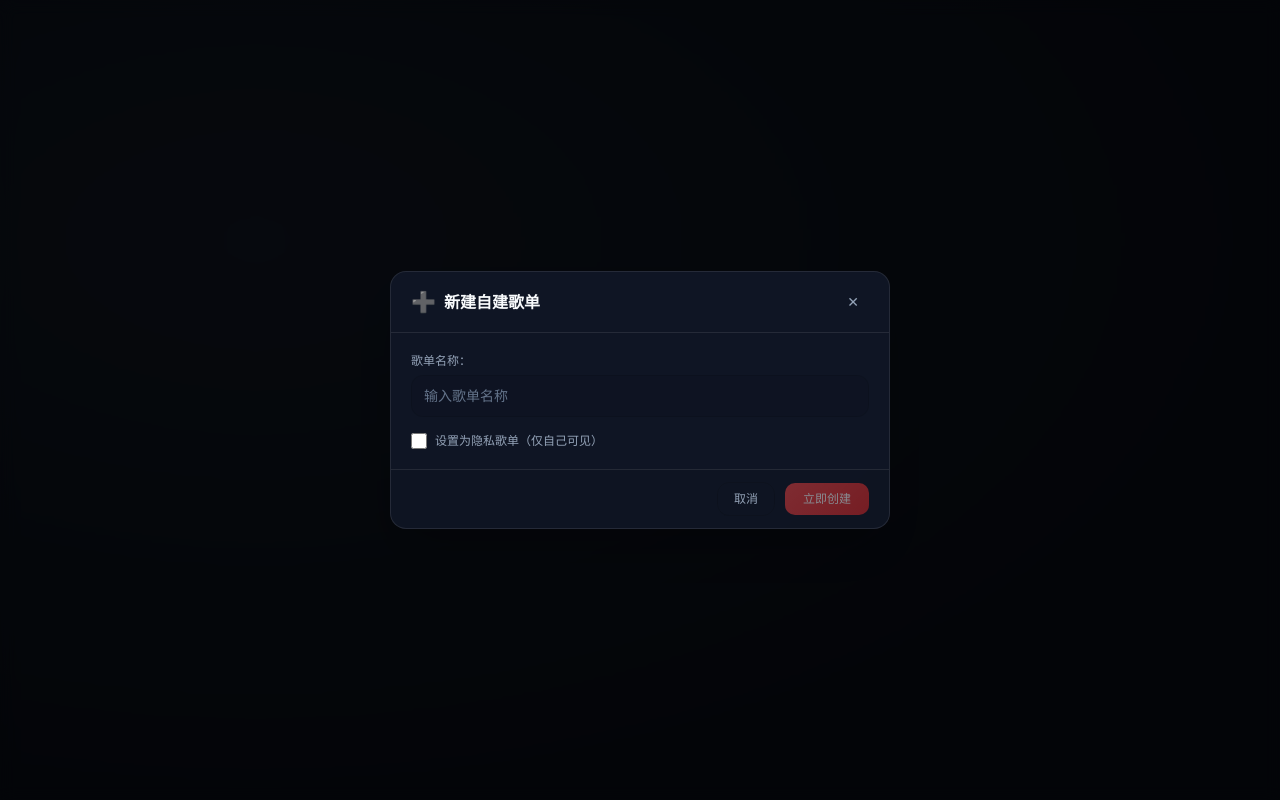
CreatePlaylistModal › enables create when name filled
The width and height of the screenshot is (1280, 800).
In the field with placeholder "输入歌单名称": coordinates (640, 396) [411,375,869,417], type "我的测试歌单"
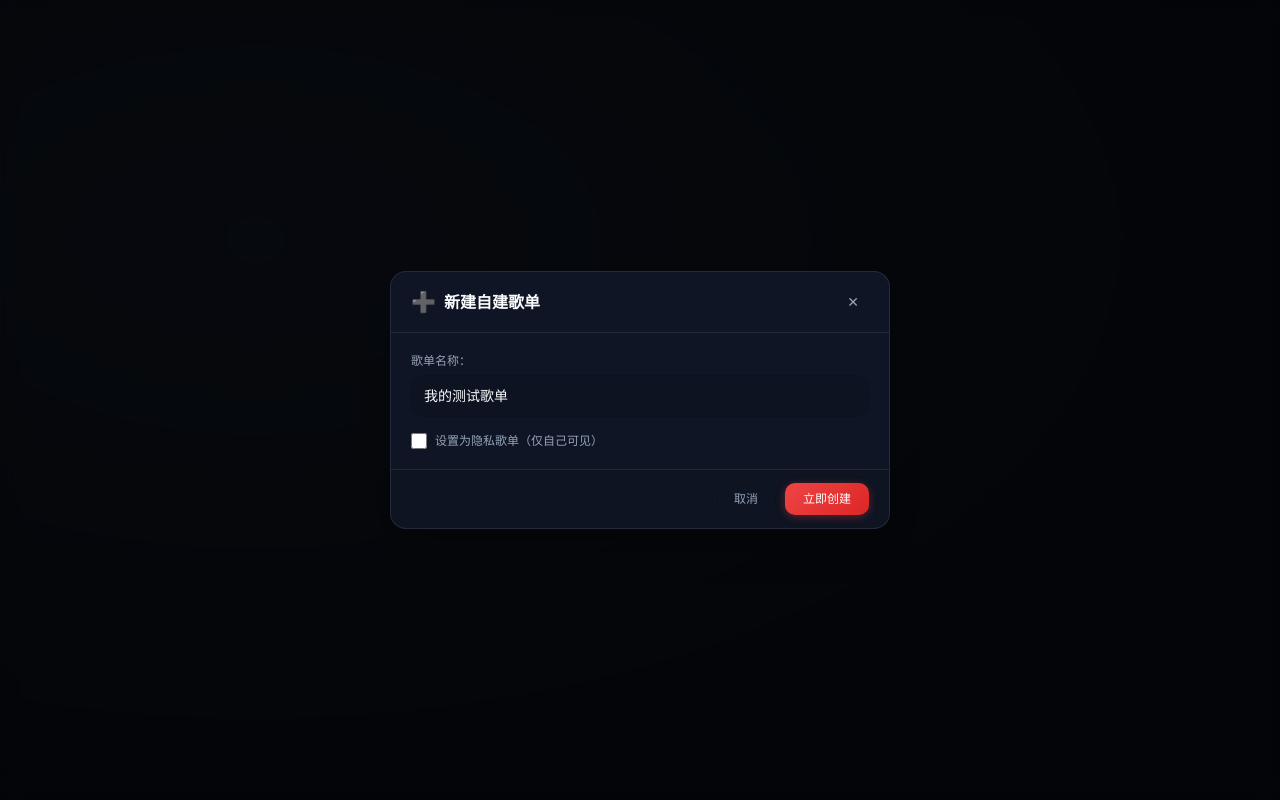
Now the button "立即创建" is enabled, box [785,483,869,515]
